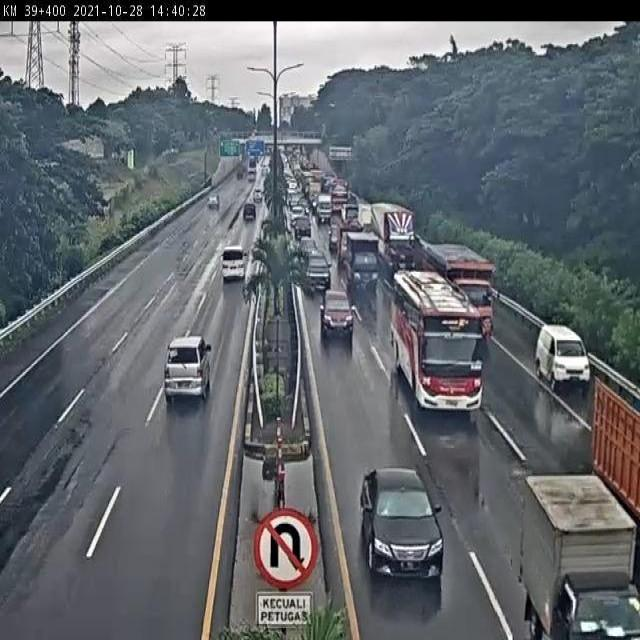bus-l-: (390, 270, 481, 414)
car: (360, 469, 445, 571), (535, 324, 591, 388), (161, 336, 212, 401), (319, 289, 356, 339), (304, 244, 330, 284), (219, 245, 245, 284)
truck-l-: (421, 242, 493, 346)
truck-m-: (344, 235, 380, 288)
truck-s-: (521, 477, 640, 640)
